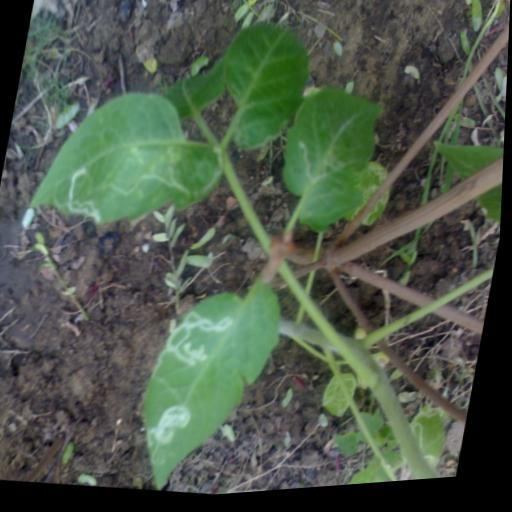Leaf_Miner: (24, 71, 239, 252), (131, 270, 295, 503), (270, 78, 392, 249)
